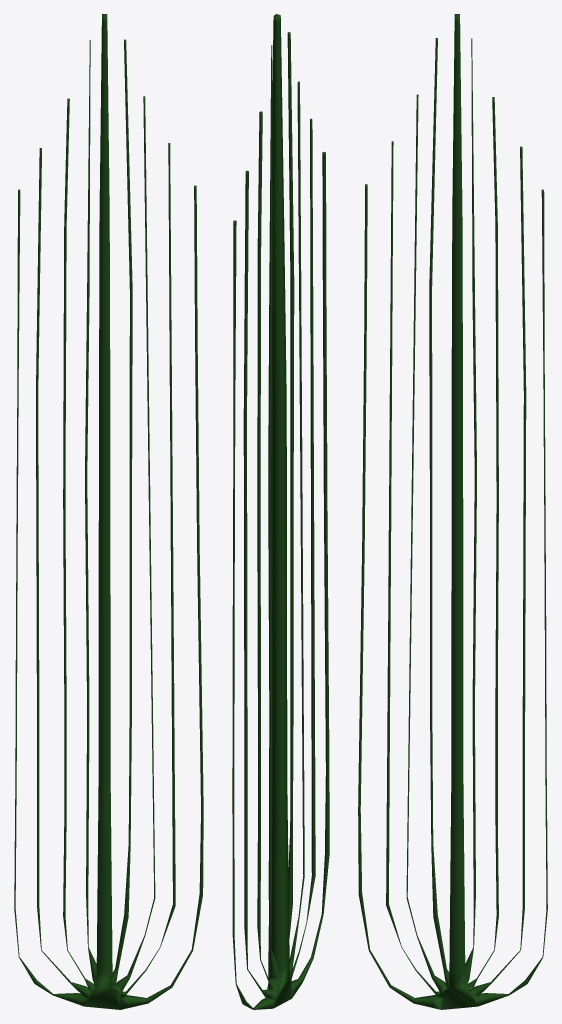
Rendered from T.DaunSejajar.fbx.
3 views of the same model, side by side, from view 1: azimuth 90°, elevation 25°; view 2: azimuth 150°, elevation 25°; view 3: azimuth 270°, elevation 25° (orthographic).
Visible parts, largest first — view 1: Cube; view 2: Cube; view 3: Cube.
Boxes of the visible parts, x1=… form: Cube: x1=14, y1=14, x2=203, y2=1009; Cube: x1=232, y1=14, x2=329, y2=1009; Cube: x1=358, y1=14, x2=547, y2=1009.
Bounding box in the file's own units: 8.2 × 558 × 96.64.
